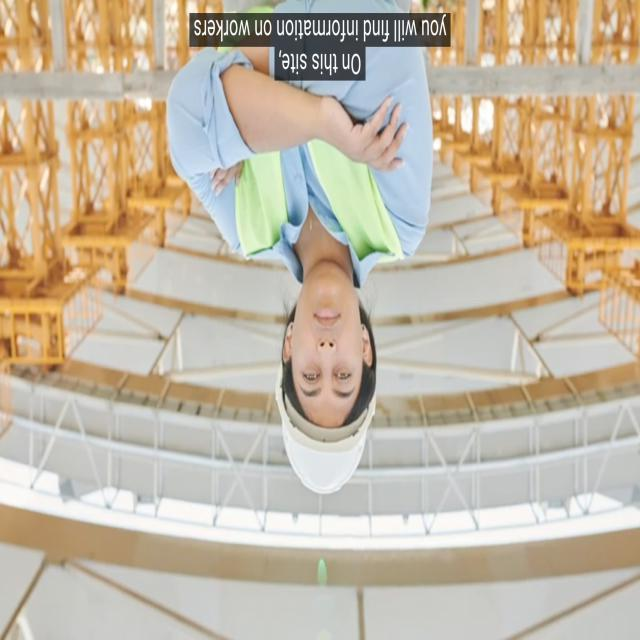safetyhelmet: (265, 296, 394, 502)
